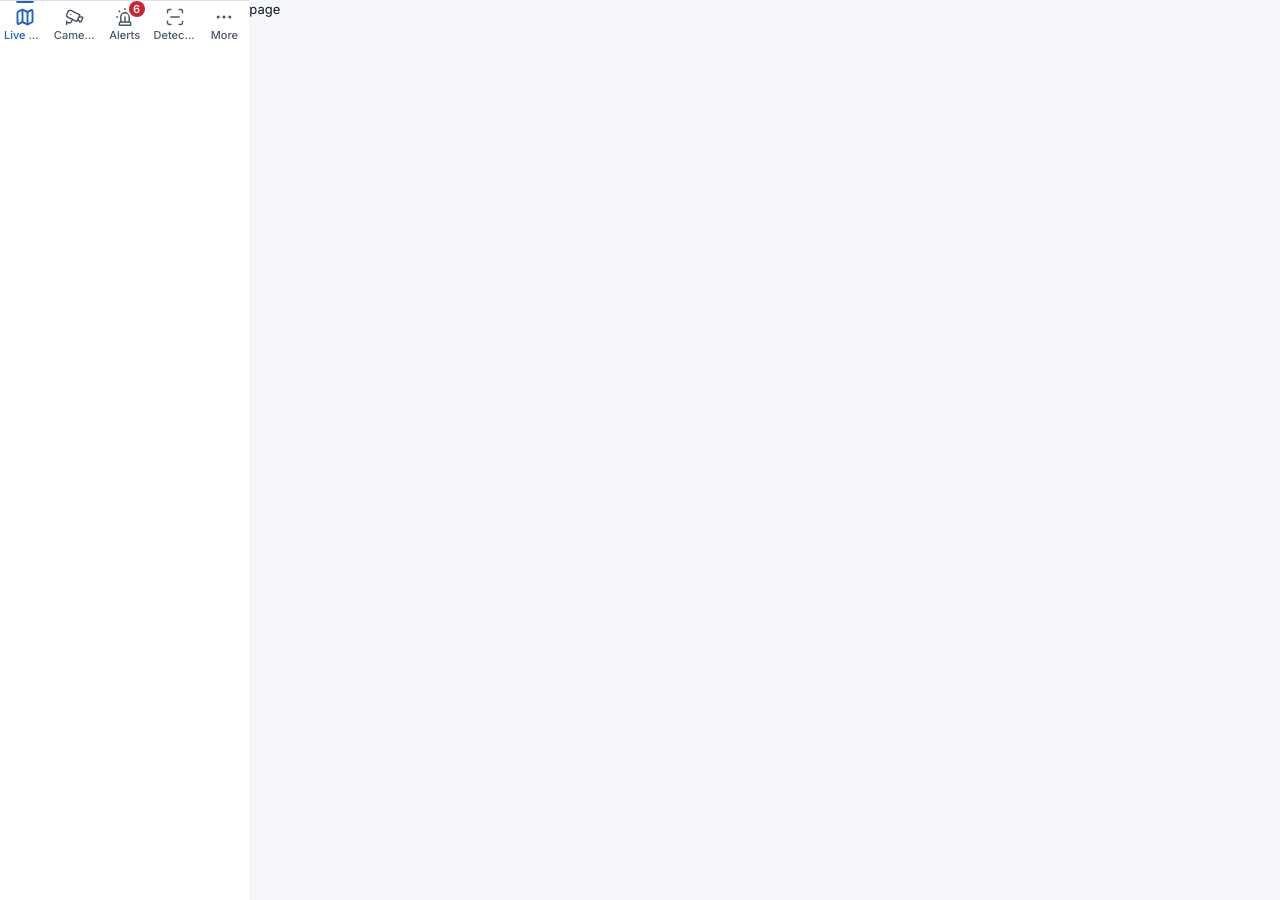
Test: BottomNav › More opens a sheet with the remaining pages, and navigating closes it
Click the button "More": click(224, 25) [199, 1, 249, 49]
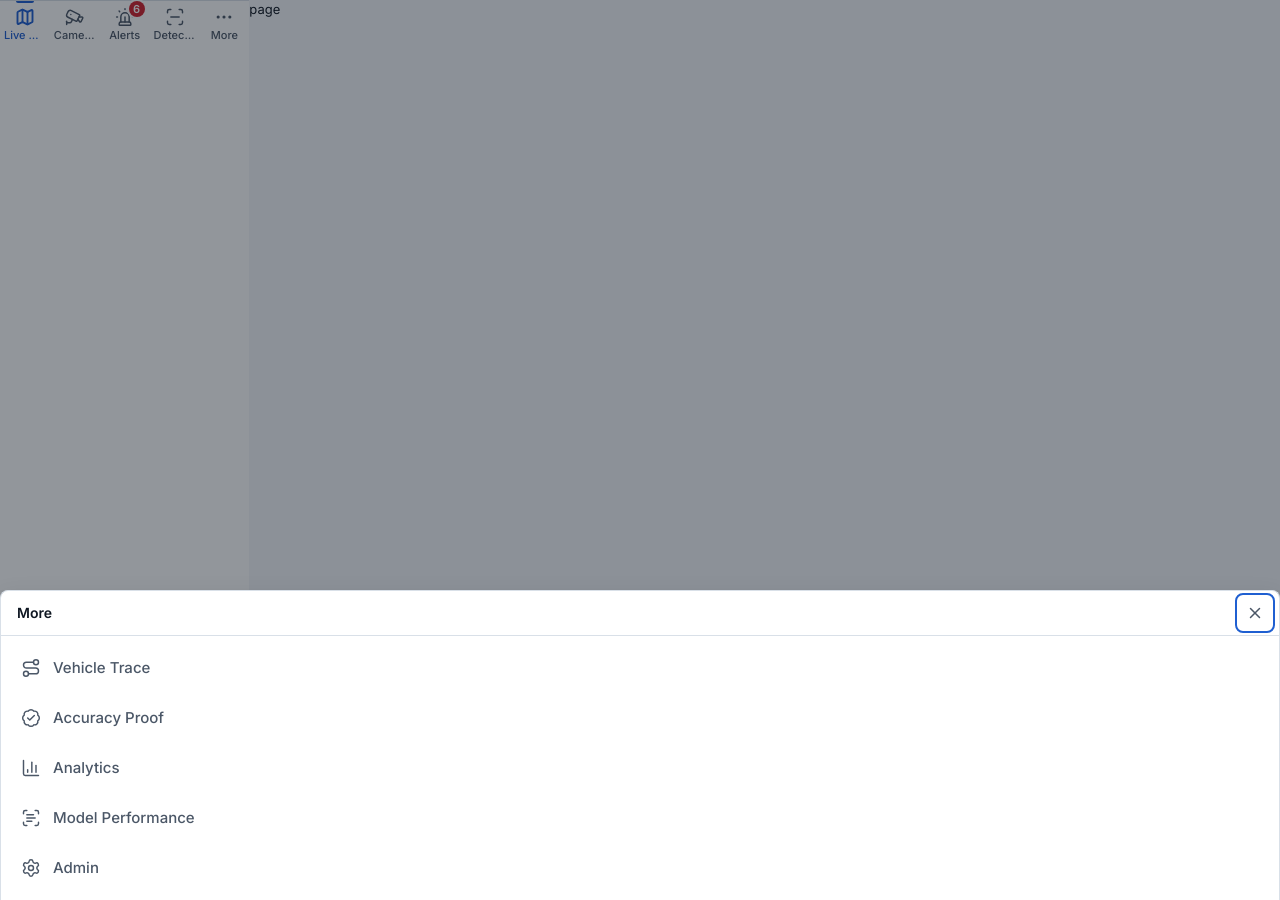
Expected: the links read "Vehicle Trace", "Accuracy Proof", "Analytics", "Model Performance", "Admin", in this order
Click the link "Analytics": click(70, 768) [21, 758, 120, 778]
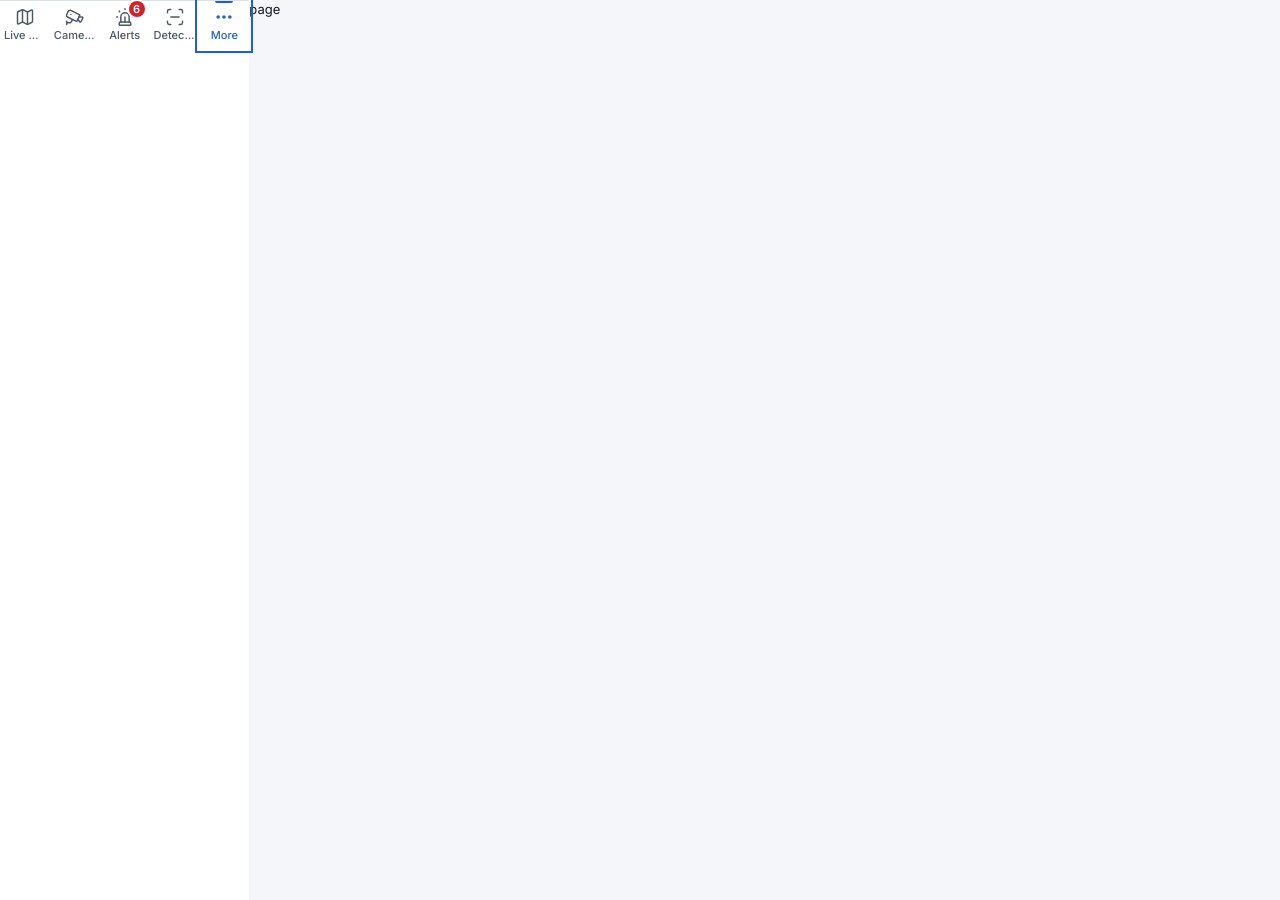
Expected: the dialog is gone
